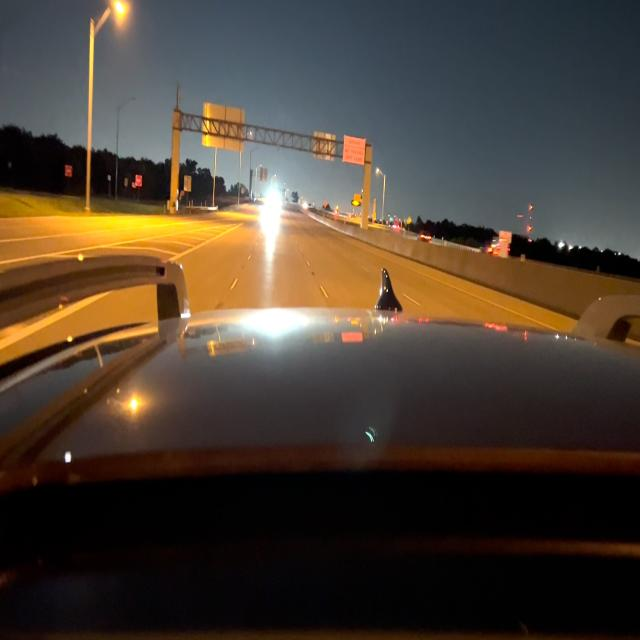back-of-sign: (204, 100, 244, 153), (315, 129, 334, 162)
